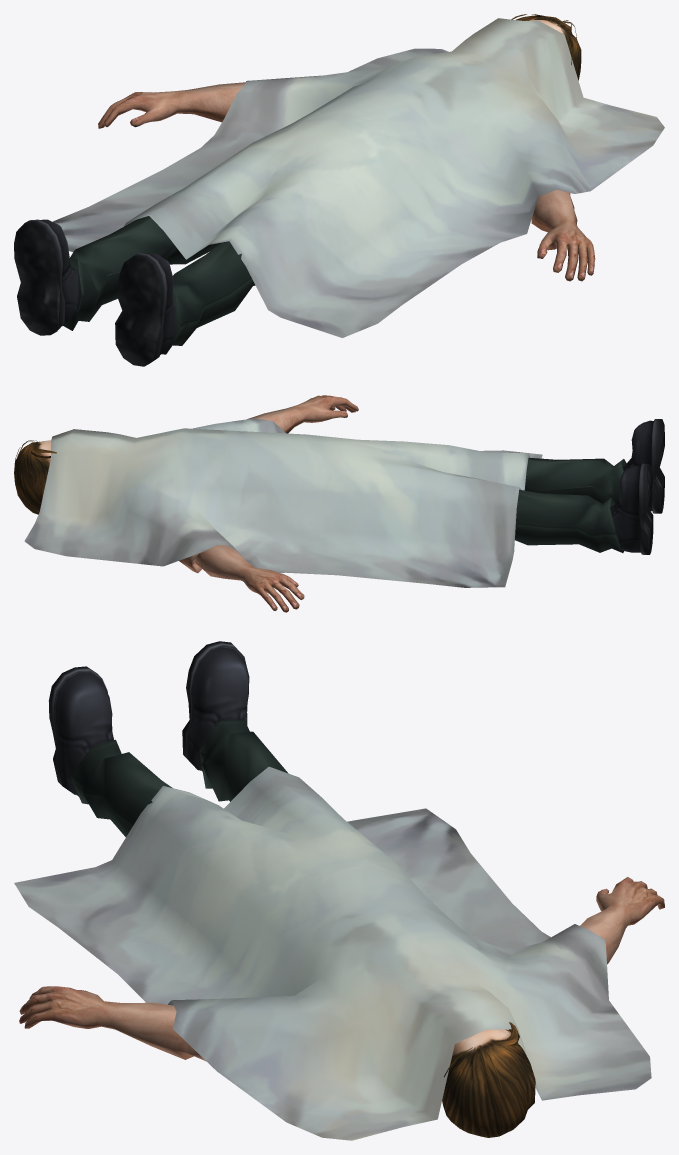
Rendered from FaYuanWai_01_SiZheShiTi_01.FBX.
The picture shows the model from 3 angles, top to bottom: view 1: azimuth 30°, elevation 25°; view 2: azimuth 150°, elevation 25°; view 3: azimuth 270°, elevation 25°; orthographic projection. The views are drawn at different scales.
Visible parts, largest first — view 1: Plane002; view 2: Plane002; view 3: Plane002.
Boxes of the visible parts, x1,y1,x2,y2 form: Plane002: (14, 14, 664, 366); Plane002: (14, 395, 664, 612); Plane002: (14, 641, 664, 1140).
Size of the model in its own units: 703 by 121 by 500.
Materials: 1 (1 with a texture image).
